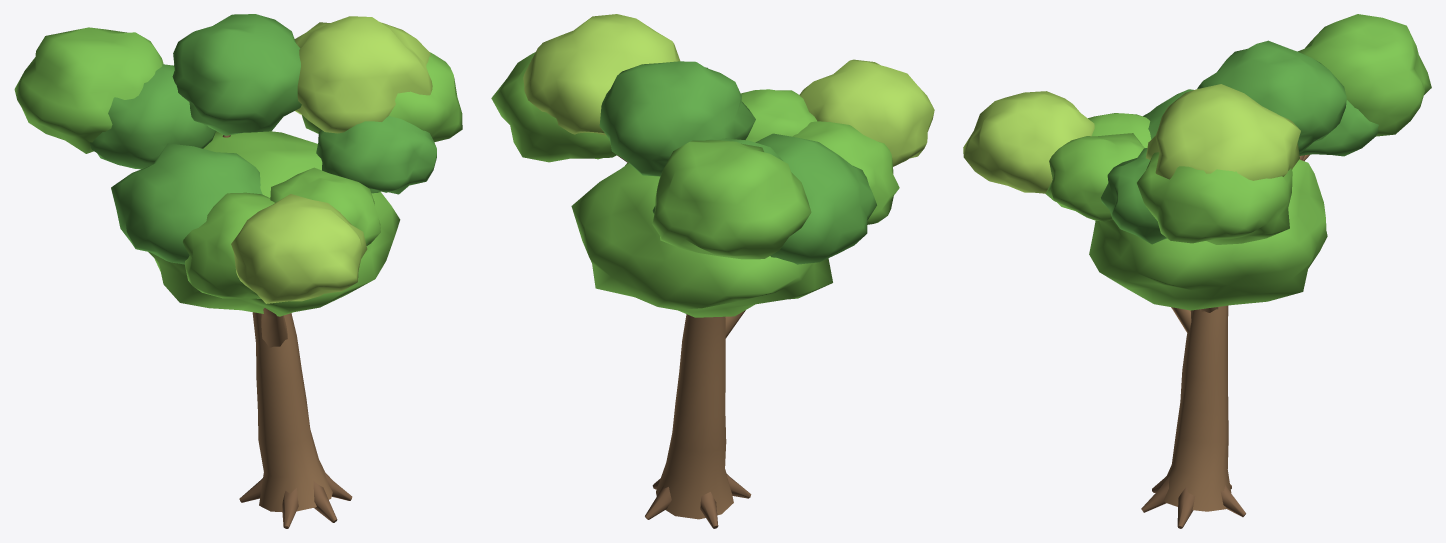
Rendered from Tree_B.fbx.
3 views of the same model, side by side, from view 1: azimuth 30°, elevation 25°; view 2: azimuth 150°, elevation 25°; view 3: azimuth 270°, elevation 25° (orthographic). The views are drawn at different scales.
Parts seen in each view (by area): view 1: Tree_B; view 2: Tree_B; view 3: Tree_B.
Boxes of the visible parts, bbox=[...] form: Tree_B: bbox=[14, 14, 462, 528]; Tree_B: bbox=[491, 14, 934, 528]; Tree_B: bbox=[963, 14, 1431, 528].
Size of the model in its own units: 4.39 by 5.44 by 5.16.
